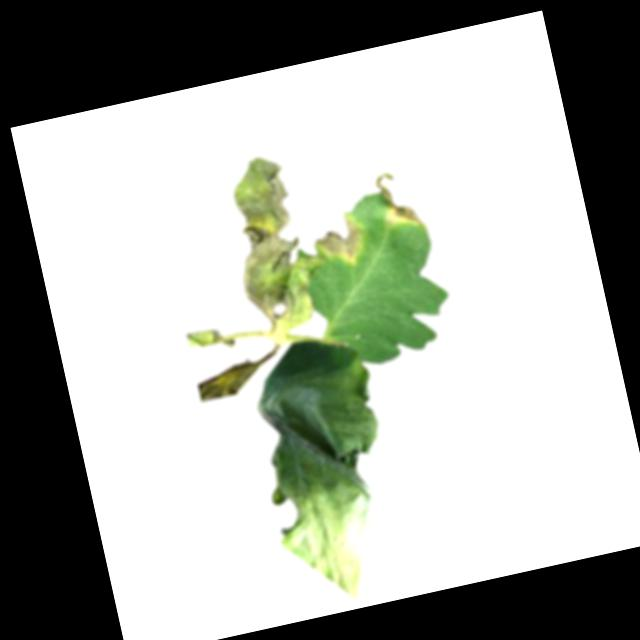Late_blight: (235, 326, 416, 613), (217, 149, 335, 333), (371, 166, 421, 233), (315, 213, 367, 271)
